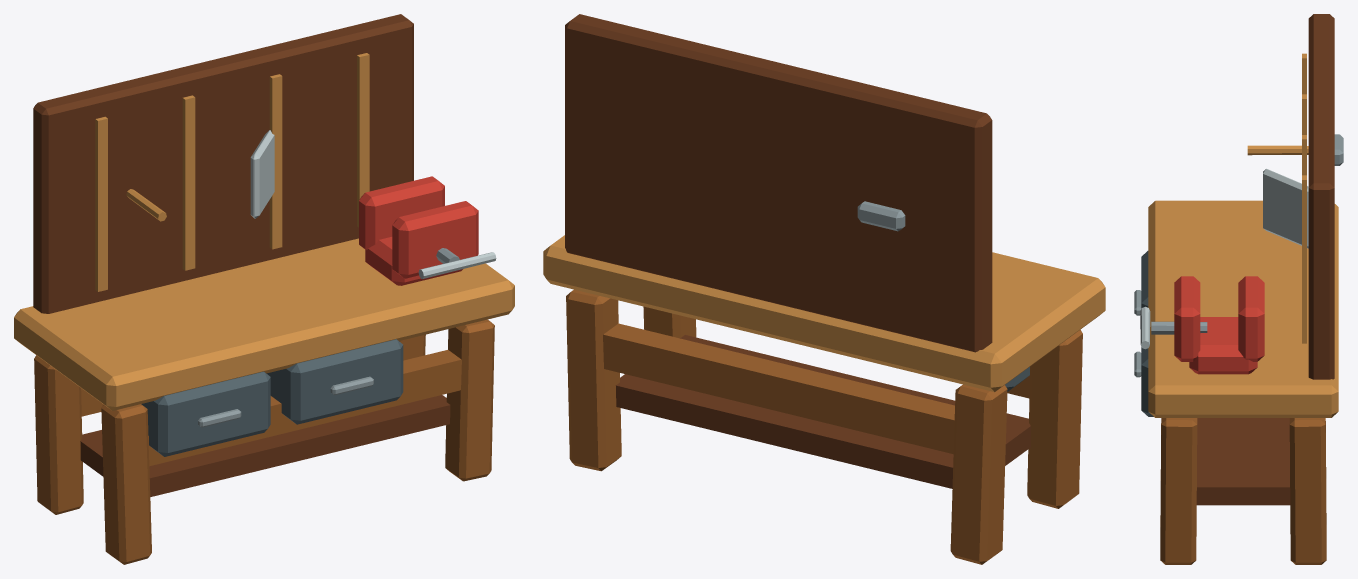
File: station_workbench_upgraded.glb
3 renders of one model, left to right at view 1: azimuth 30°, elevation 25°; view 2: azimuth 150°, elevation 25°; view 3: azimuth 270°, elevation 25°, orthographic. The views are drawn at different scales.
Parts seen in each view (by area): view 1: Backboard, Worktop.001, Lower_Shelf.001, Drawer_Right, Leg_1_1.001, Drawer_Left, Leg_2_1.001, Leg_1_2.001, Vise_Jaw_Front, Front_Brace.001, Vise_Jaw_Back, Backboard_Slat_2 (+6 smaller); view 2: Backboard, Worktop.001, Back_Brace.001, Lower_Shelf.001, Leg_1_2.001, Leg_2_2.001, Leg_1_1.001, Leg_2_1.001, Hanging_Hammer_Head; view 3: Worktop.001, Backboard, Lower_Shelf.001, Leg_2_1.001, Leg_2_2.001, Vise_Base, Hanging_Square, Vise_Jaw_Front, Vise_Jaw_Back, Backboard_Slat_4, Hanging_Hammer_Handle, Drawer_Right (+4 smaller).
Part boxes in pixels (box(x1,y1,x2,y2)): Backboard: box(33, 14, 413, 313); Worktop.001: box(14, 238, 514, 410); Lower_Shelf.001: box(80, 395, 450, 496); Drawer_Right: box(266, 339, 403, 424); Leg_1_1.001: box(101, 404, 151, 564); Drawer_Left: box(141, 371, 270, 456); Leg_2_1.001: box(445, 319, 494, 481); Leg_1_2.001: box(34, 355, 83, 514); Vise_Jaw_Front: box(392, 201, 478, 278); Front_Brace.001: box(148, 350, 461, 466); Vise_Jaw_Back: box(359, 176, 444, 250); Backboard_Slat_2: box(182, 95, 195, 270); Backboard: box(565, 14, 992, 352); Worktop.001: box(543, 235, 1105, 392); Back_Brace.001: box(603, 323, 954, 454); Lower_Shelf.001: box(616, 335, 1030, 488); Leg_1_2.001: box(950, 384, 1007, 564); Leg_2_2.001: box(566, 289, 621, 471); Leg_1_1.001: box(1027, 329, 1082, 508); Leg_2_1.001: box(643, 306, 696, 337); Hanging_Hammer_Head: box(857, 201, 905, 231); Worktop.001: box(1148, 200, 1338, 417); Backboard: box(1308, 14, 1334, 379); Lower_Shelf.001: box(1196, 418, 1290, 505); Leg_2_1.001: box(1160, 418, 1197, 564); Leg_2_2.001: box(1289, 418, 1326, 564); Vise_Base: box(1189, 317, 1257, 374); Hanging_Square: box(1263, 168, 1308, 248); Vise_Jaw_Front: box(1174, 276, 1200, 361); Vise_Jaw_Back: box(1238, 276, 1264, 361); Backboard_Slat_4: box(1302, 175, 1306, 343); Hanging_Hammer_Handle: box(1247, 145, 1308, 155); Drawer_Right: box(1141, 347, 1153, 416).
Size of the model in its own units: 2.25 by 2.1 by 1.04.
